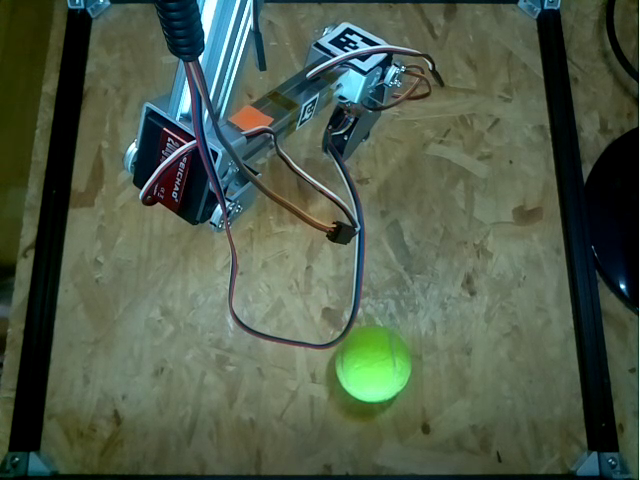tennis_ball: (335, 327, 413, 403)
